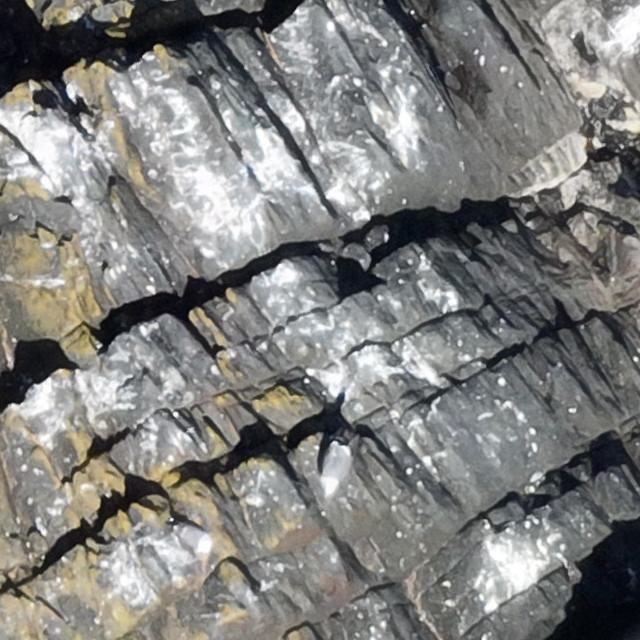umineko: (321, 441, 351, 500), (177, 524, 219, 554)
